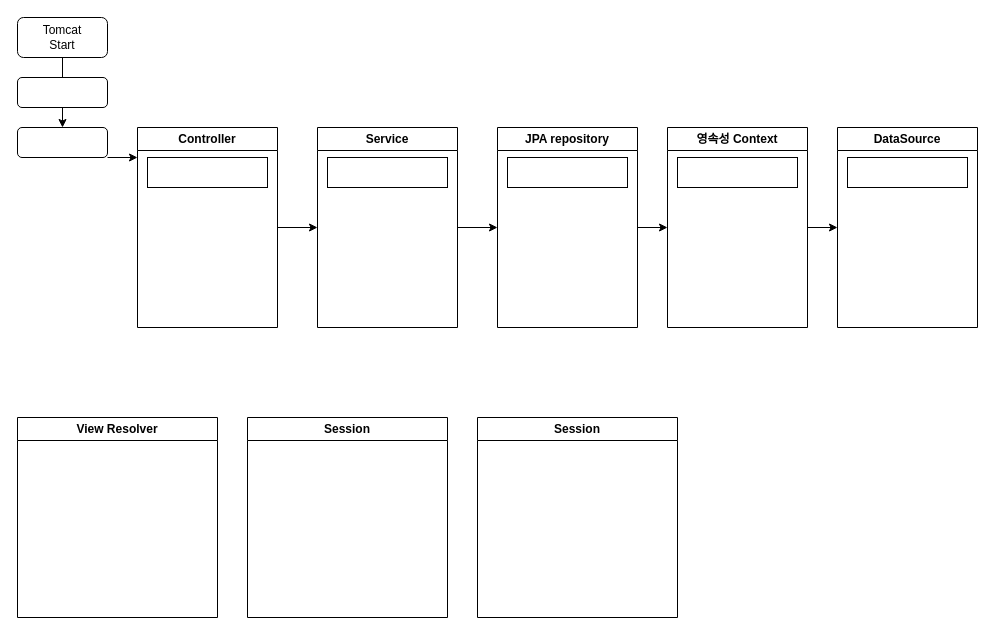
Image size: 995x635. Some labels were removed from this diagram. The shapes that lost their labels are listed below. From the top down, each one's centre as x and y in pixels, then its label:
At pixel 62 92: "Filter".
At pixel 62 142: "Dispatch".
